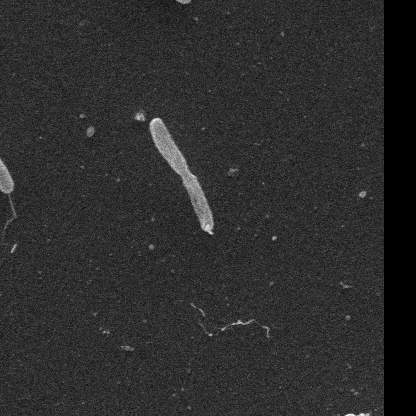cell: (148, 119, 212, 233), (0, 126, 23, 195), (338, 402, 384, 416), (114, 0, 192, 4)
nanowire: (0, 185, 17, 236), (131, 107, 154, 129), (0, 250, 2, 307)
